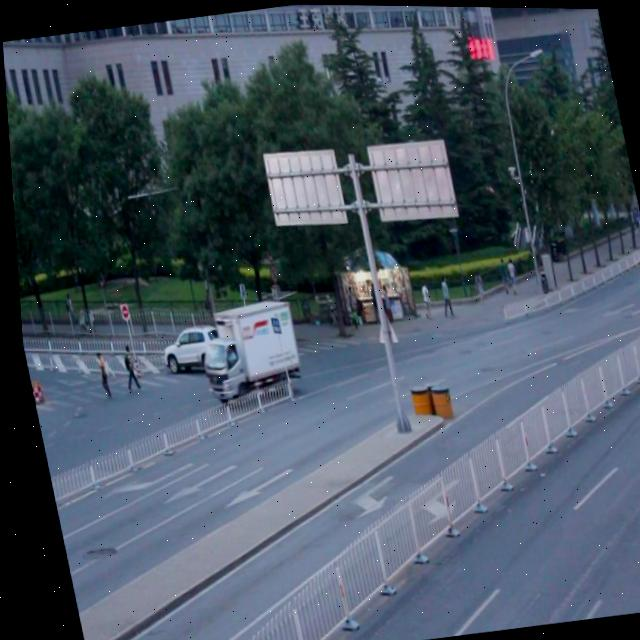bus: (189, 300, 301, 404)
car: (152, 318, 225, 376)
